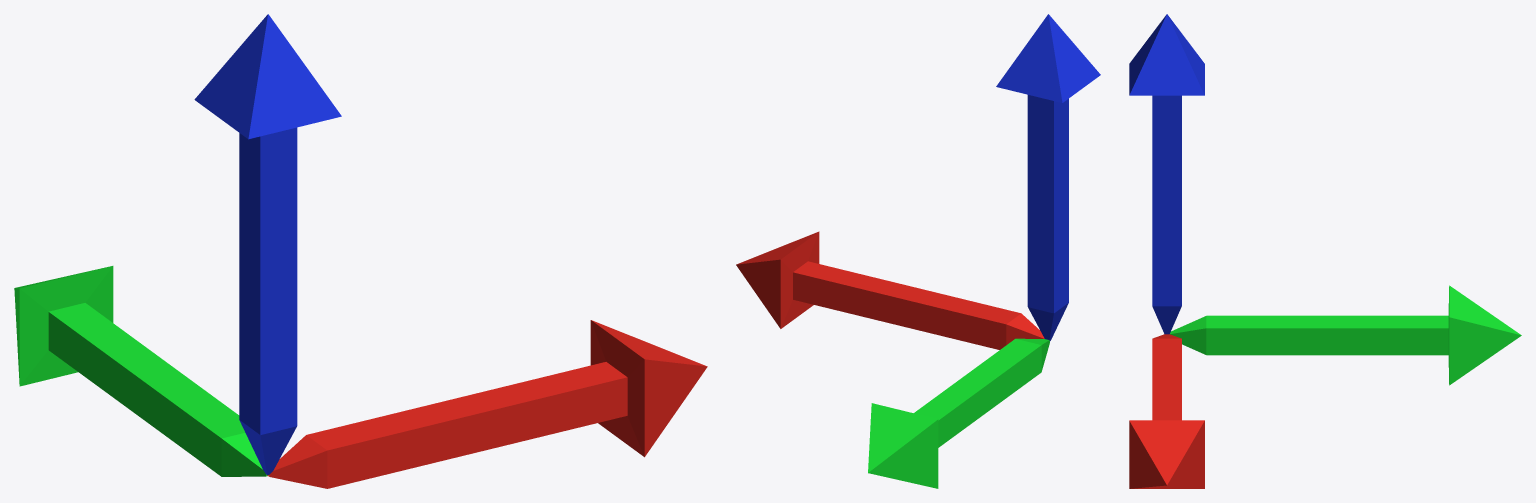
The model's file is gizmo.glb.
3 views of the same model, side by side, from view 1: azimuth 30°, elevation 25°; view 2: azimuth 150°, elevation 25°; view 3: azimuth 270°, elevation 25° (orthographic). The views are drawn at different scales.
Visible parts, largest first — view 1: Cube.001; view 2: Cube.001; view 3: Cube.001.
Part boxes in pixels (<box>): Cube.001: <box>14,14,707,488</box>; Cube.001: <box>736,14,1100,488</box>; Cube.001: <box>1129,14,1521,488</box>.
Bounding box in the file's own units: 0.5518 × 0.5518 × 0.5518.
